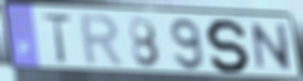8: (127, 16, 162, 69)
9: (168, 17, 205, 73)
N: (249, 22, 294, 74)
R: (78, 13, 128, 70)
S: (204, 18, 253, 75)
T: (38, 14, 75, 67)
